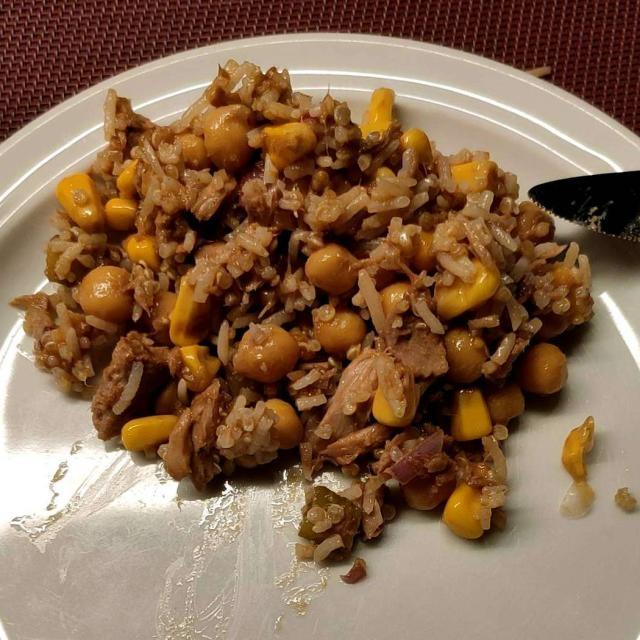chickpeas: (81, 224, 591, 440)
rice: (66, 53, 596, 342)
vegetables: (84, 331, 455, 557)
